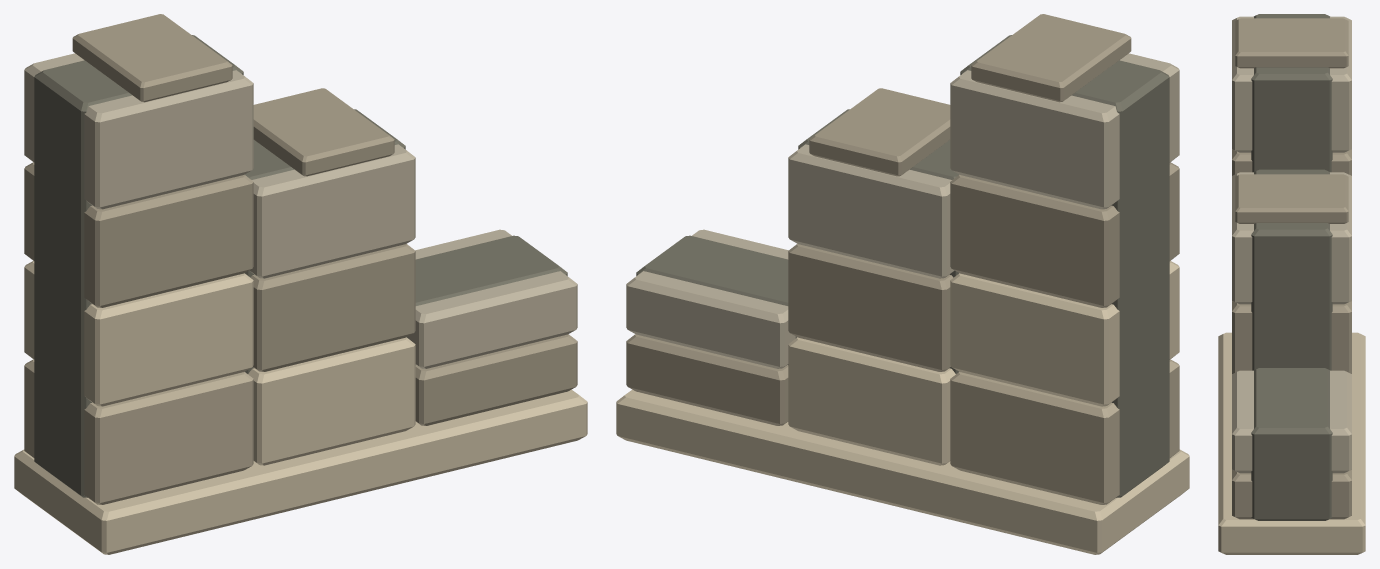
Rendered from Wall_Broken_A_2m.fbx.
The picture shows the model from 3 angles, left to right: view 1: azimuth 30°, elevation 25°; view 2: azimuth 150°, elevation 25°; view 3: azimuth 270°, elevation 25°; orthographic projection. The views are drawn at different scales.
Parts seen in each view (by area): view 1: Wall_Broken_A_2m; view 2: Wall_Broken_A_2m; view 3: Wall_Broken_A_2m.
Boxes of the visible parts, left/top/right/bottom form: Wall_Broken_A_2m: left=14, top=14, right=587, bottom=554; Wall_Broken_A_2m: left=616, top=14, right=1189, bottom=554; Wall_Broken_A_2m: left=1218, top=14, right=1365, bottom=554.
Bounding box in the file's own units: 2 × 1.79 × 0.65.
